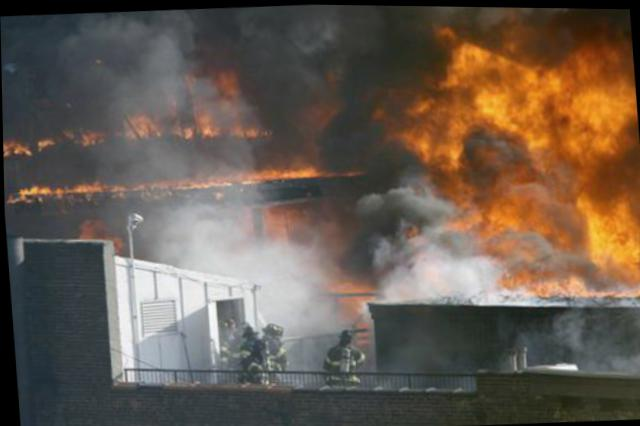fire: (550, 42, 640, 176), (582, 174, 639, 273), (508, 61, 559, 163), (451, 39, 512, 121), (405, 103, 465, 165), (470, 192, 527, 237), (250, 155, 327, 178), (70, 180, 122, 192), (20, 182, 57, 197), (2, 139, 36, 154), (196, 115, 222, 134), (35, 135, 58, 151)
